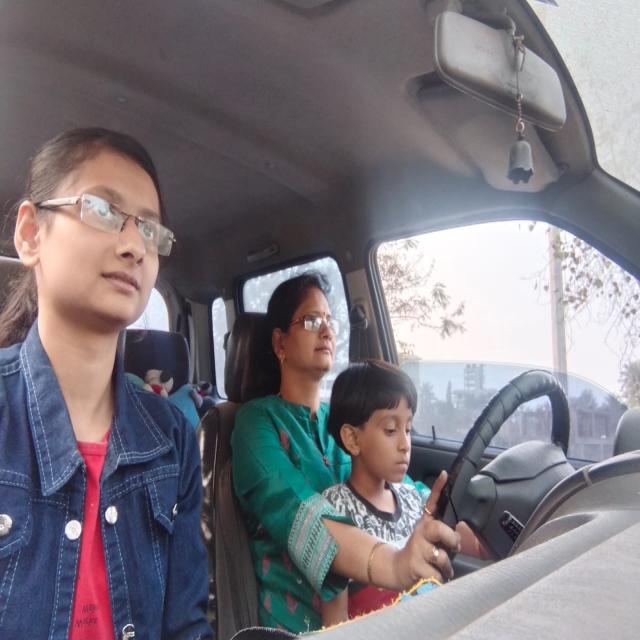child: (331, 358, 419, 484)
person: (12, 117, 172, 355), (261, 252, 339, 378)
